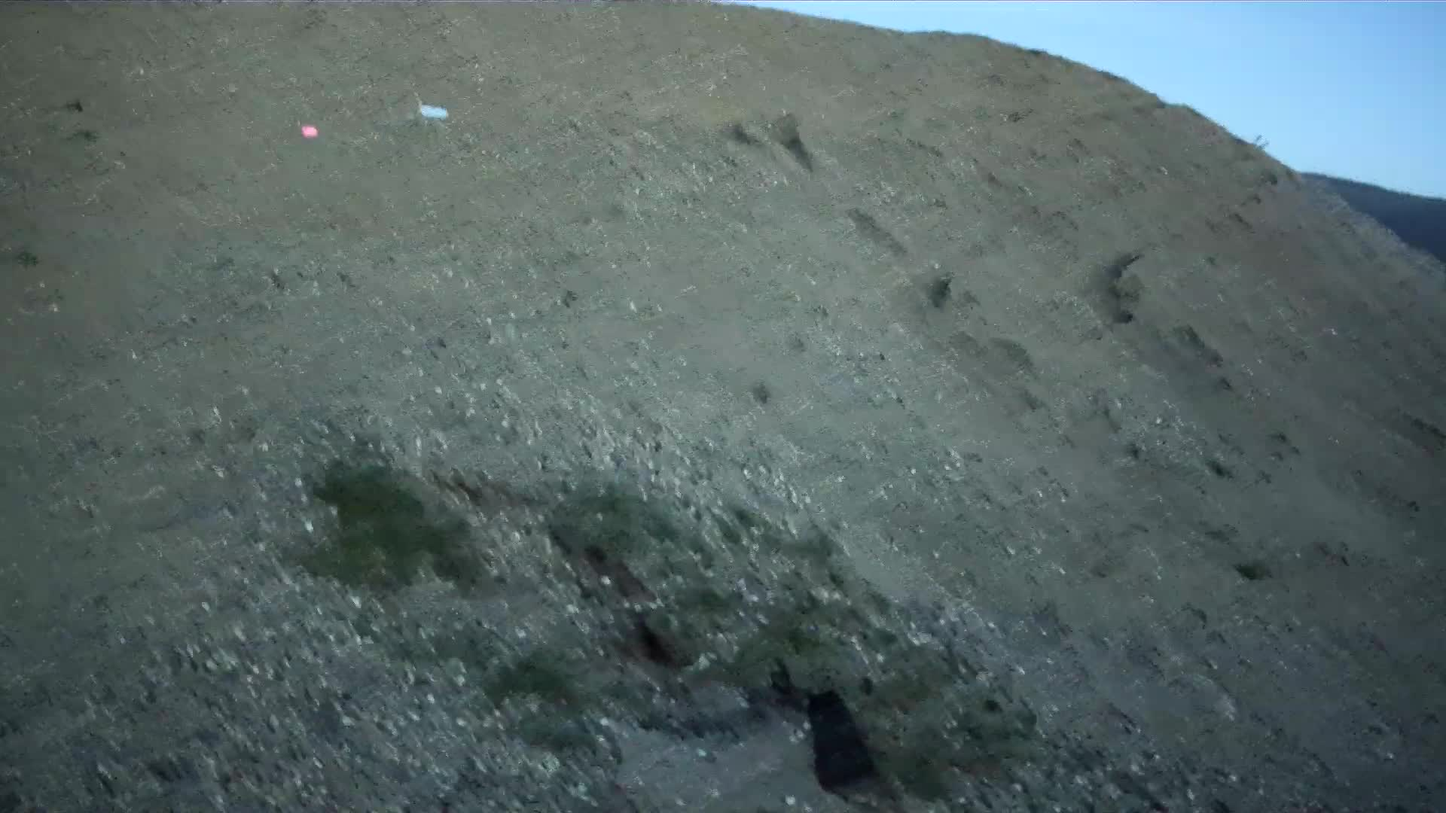Target: (420, 104, 448, 119)
